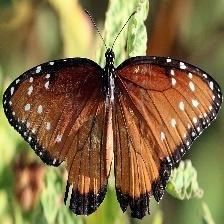butterfly: (3, 50, 223, 218)
